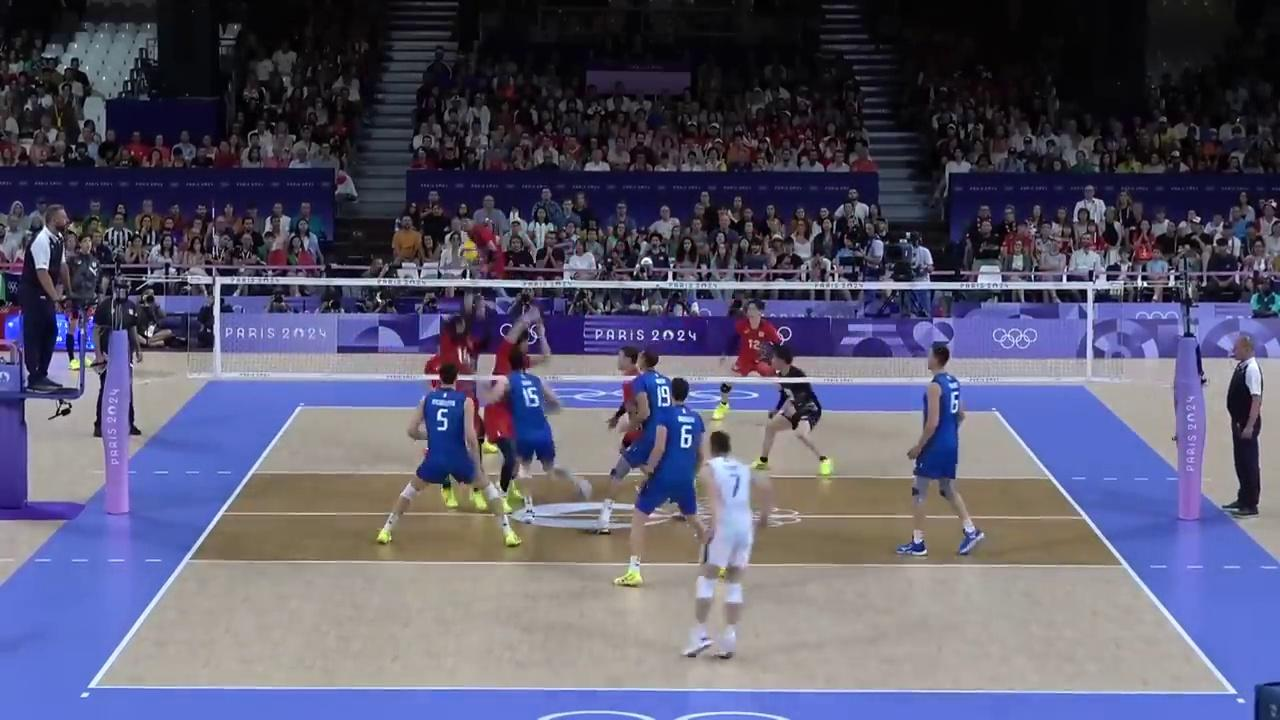ball: (458, 242, 479, 262)
